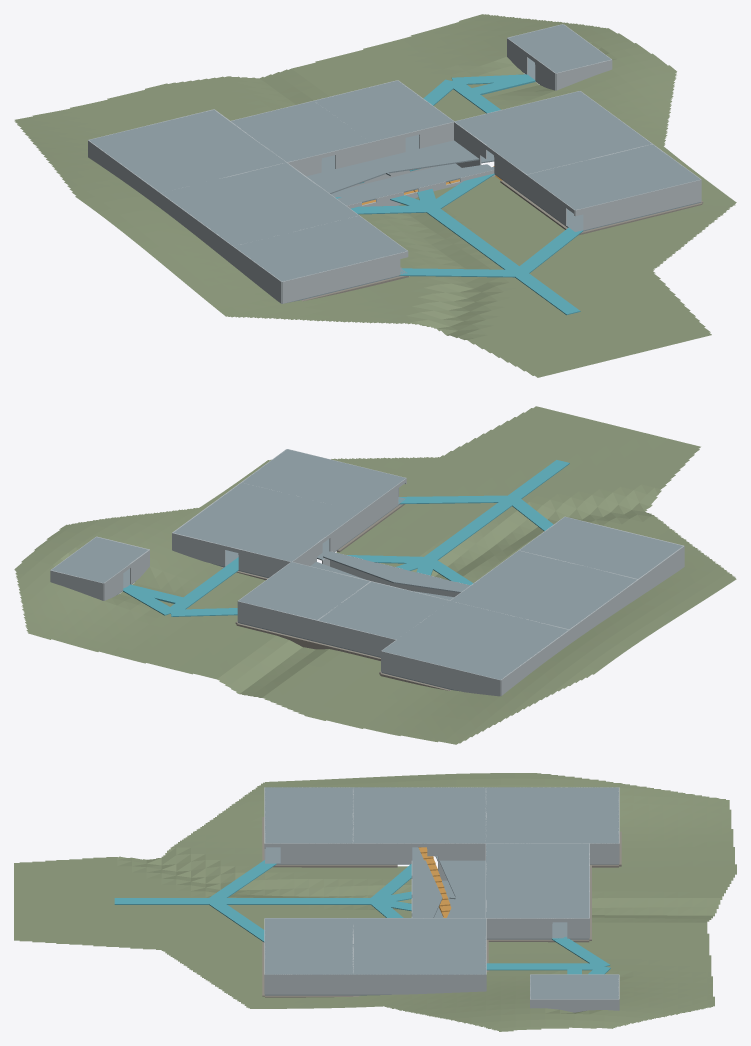
The model's file is access-routes.glb.
The picture shows the model from 3 angles, top to bottom: view 1: azimuth 30°, elevation 25°; view 2: azimuth 150°, elevation 25°; view 3: azimuth 270°, elevation 25°; orthographic projection. The views are drawn at different scales.
Parts seen in each view (by area): view 1: Saved editor circulation terrain WLD-08, Ceiling cap lab, Ceiling cap dorm, Ceiling cap generator, Ceiling cap store, Ceiling cap mess, Ceiling cap radio, Ceiling cap records, Flat route shell Wall store S, Flat route shell Wall mess S, Ceiling cap shelter, Restored ceiling-cap tunnel 6 region1 (+19 smaller); view 2: Saved editor circulation terrain WLD-08, Ceiling cap generator, Ceiling cap dorm, Ceiling cap lab, Ceiling cap mess, Ceiling cap store, Ceiling cap records, Ceiling cap radio, Wall generator N, Ceiling cap shelter, Restored ceiling-cap tunnel 6 region1, Wall records N (+13 smaller); view 3: Saved editor circulation terrain WLD-08, Ceiling cap lab, Ceiling cap generator, Ceiling cap dorm, Ceiling cap store, Ceiling cap mess, Ceiling cap radio, Ceiling cap records, Wall dorm E, Ceiling cap shelter, Wall mess E, Wall store E (+16 smaller).
Boxes of the visible parts, x1,y1,x2,y2 form: Saved editor circulation terrain WLD-08: [14, 14, 736, 377]; Ceiling cap lab: [161, 162, 358, 246]; Ceiling cap dorm: [454, 91, 651, 174]; Ceiling cap generator: [89, 109, 285, 192]; Ceiling cap store: [234, 216, 407, 281]; Ceiling cap mess: [527, 144, 700, 210]; Ceiling cap radio: [231, 101, 370, 162]; Ceiling cap records: [315, 80, 453, 141]; Flat route shell Wall store S: [282, 251, 407, 303]; Flat route shell Wall mess S: [575, 179, 701, 230]; Ceiling cap shelter: [508, 24, 610, 73]; Restored ceiling-cap tunnel 6 region1: [337, 164, 493, 205]; Saved editor circulation terrain WLD-08: [14, 406, 736, 744]; Ceiling cap generator: [382, 601, 568, 679]; Ceiling cap dorm: [173, 483, 359, 561]; Ceiling cap lab: [450, 550, 636, 629]; Ceiling cap mess: [242, 449, 405, 511]; Ceiling cap store: [519, 517, 682, 578]; Ceiling cap records: [238, 562, 369, 619]; Ceiling cap radio: [318, 581, 449, 639]; Wall generator N: [381, 651, 500, 696]; Ceiling cap shelter: [51, 537, 148, 583]; Restored ceiling-cap tunnel 6 region1: [323, 551, 469, 592]; Wall records N: [237, 601, 317, 641]; Saved editor circulation terrain WLD-08: [14, 773, 736, 1031]; Ceiling cap lab: [353, 787, 485, 843]; Ceiling cap generator: [486, 787, 618, 843]; Ceiling cap dorm: [353, 918, 485, 974]; Ceiling cap store: [265, 787, 353, 843]; Ceiling cap mess: [265, 918, 353, 974]; Ceiling cap radio: [486, 843, 589, 880]; Ceiling cap records: [486, 881, 589, 918]; Wall dorm E: [353, 974, 485, 994]; Ceiling cap shelter: [530, 974, 618, 999]; Wall mess E: [265, 974, 353, 994]; Wall store E: [280, 843, 353, 863].
Size of the model in its own units: 83 by 5.66 by 98.
